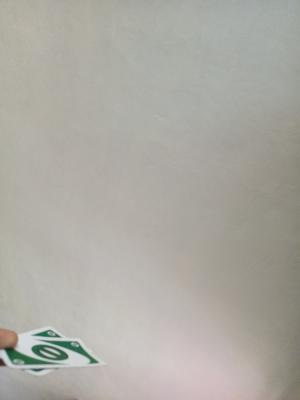green: (30, 337, 83, 363)
